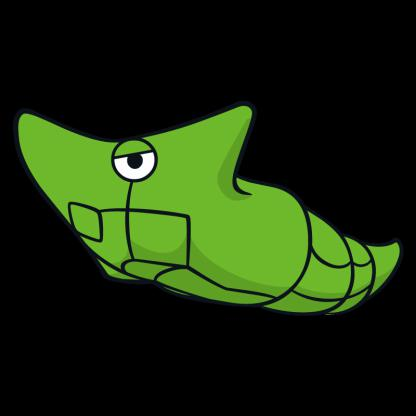Metapod: (9, 94, 409, 333)
